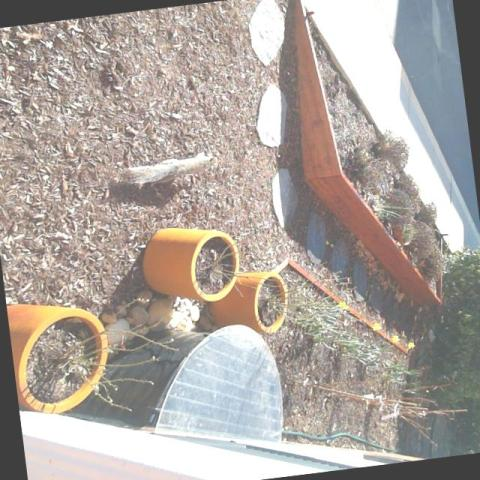small_animal: (117, 150, 217, 189)
